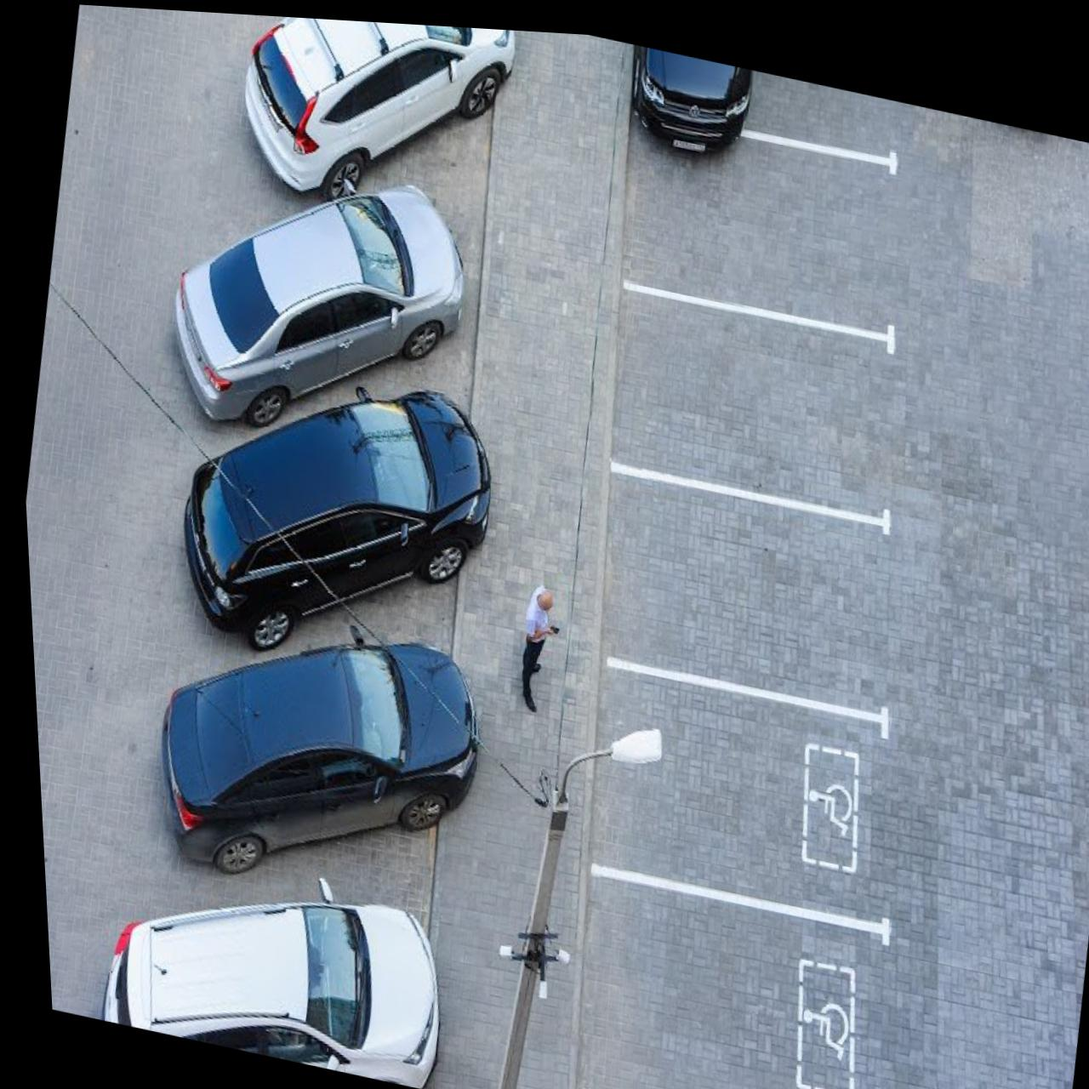cars: (620, 108, 902, 335)
empty: (566, 659, 922, 949), (545, 867, 921, 1089), (578, 471, 906, 721), (597, 283, 910, 524)
